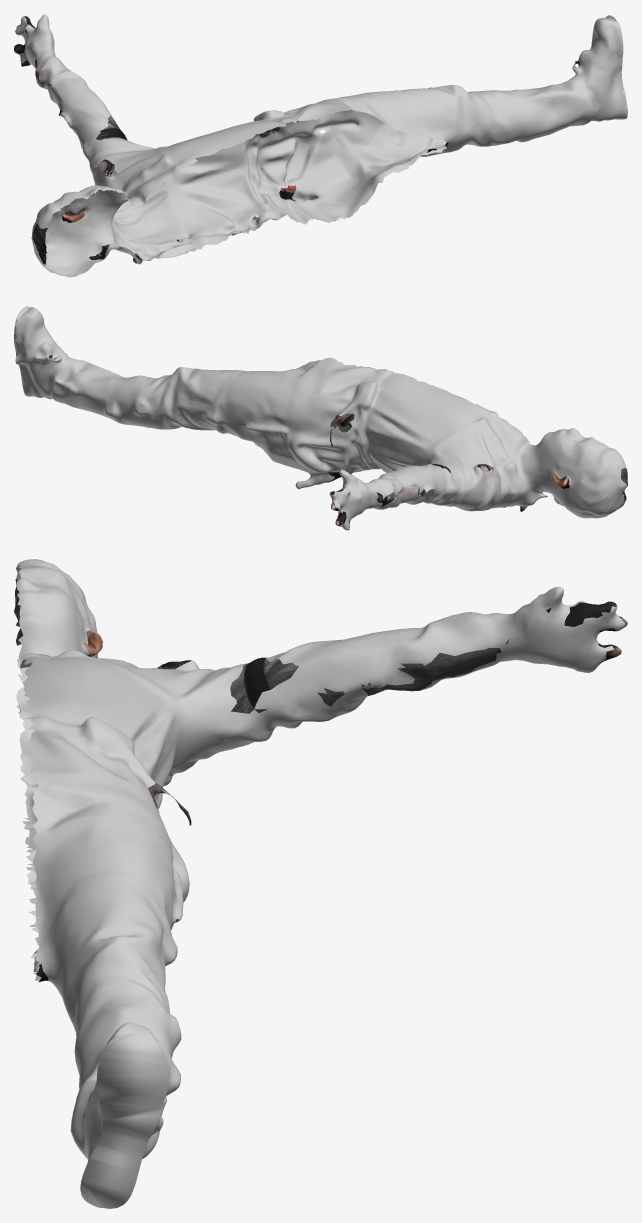
The model's file is half.obj.
3 renders of one model, top to bottom at view 1: azimuth 30°, elevation 25°; view 2: azimuth 150°, elevation 25°; view 3: azimuth 270°, elevation 25°, orthographic. The views are drawn at different scales.
Bounding box in the file's own units: 5.59 × 1.26 × 2.7.
